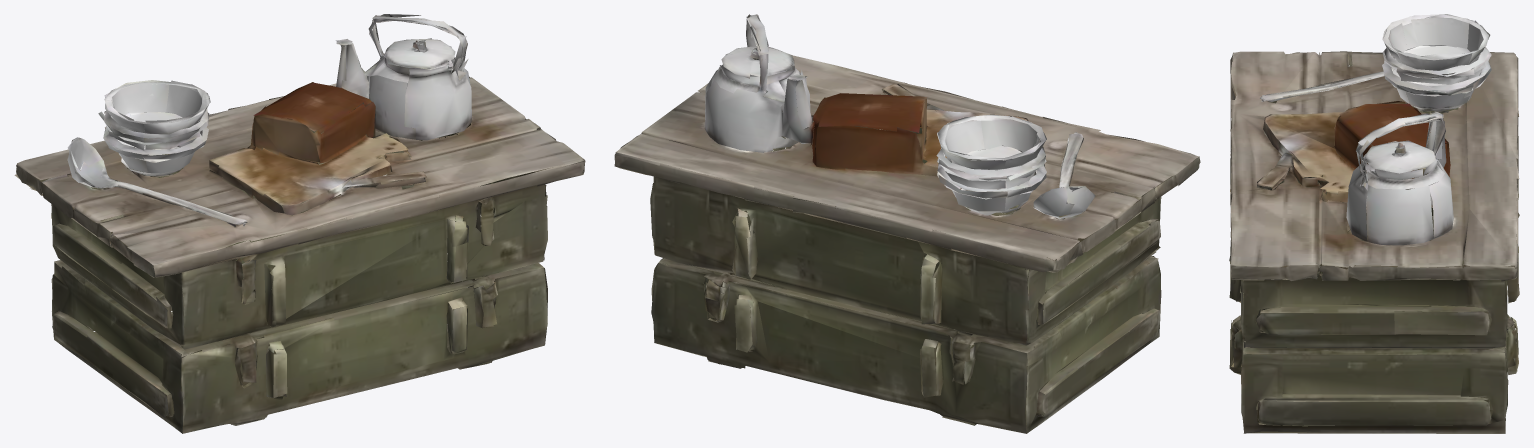
Rendered from prop_kitchen_table.glb.
3 renders of one model, left to right at view 1: azimuth 30°, elevation 25°; view 2: azimuth 150°, elevation 25°; view 3: azimuth 270°, elevation 25°, orthographic. The views are drawn at different scales.
Parts seen in each view (by area): view 1: prop_kitchen_table; view 2: prop_kitchen_table; view 3: prop_kitchen_table.
Boxes of the visible parts, <box> form: prop_kitchen_table: <box>14,14,585,433</box>; prop_kitchen_table: <box>614,14,1200,433</box>; prop_kitchen_table: <box>1229,14,1519,433</box>.
Size of the model in its own units: 1.4 by 0.895 by 0.7971.
Materials: 1 (1 with a texture image).
